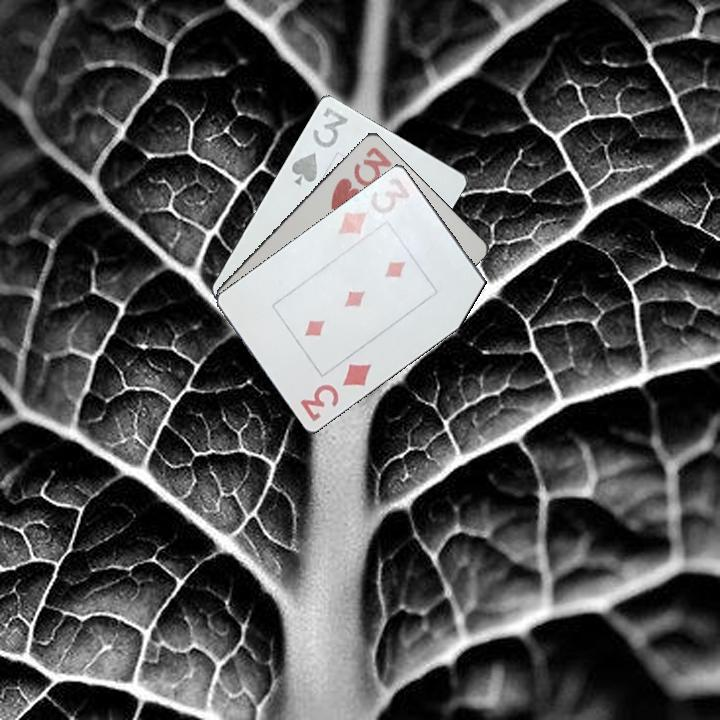3d: (334, 172, 417, 240), (296, 360, 374, 424)
3h: (327, 143, 396, 213)
3s: (287, 103, 351, 188)
